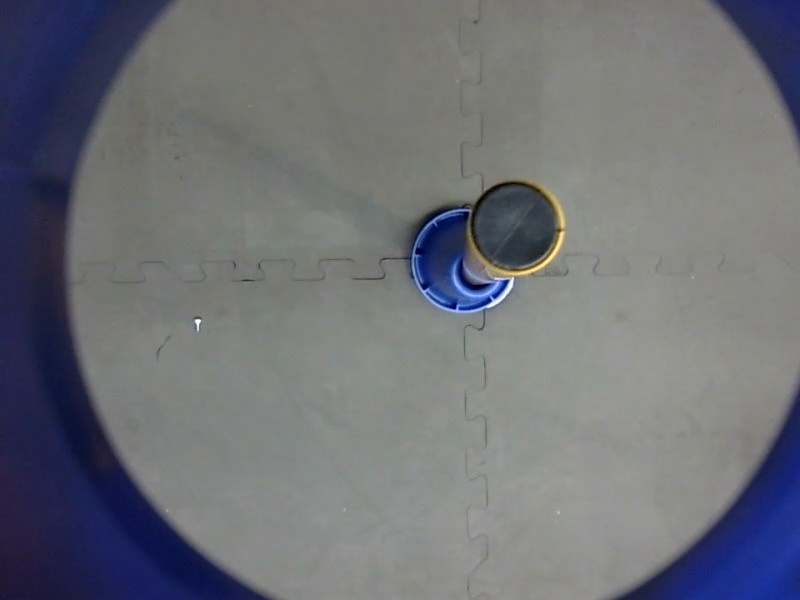tip: (461, 175, 570, 281)
